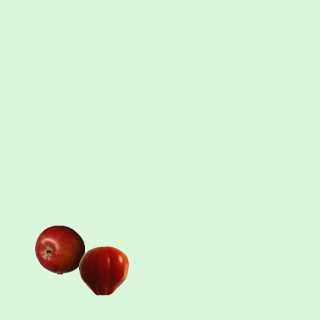Apple Braeburn: (34, 224, 84, 274)
Tomato 1: (78, 245, 128, 295)
